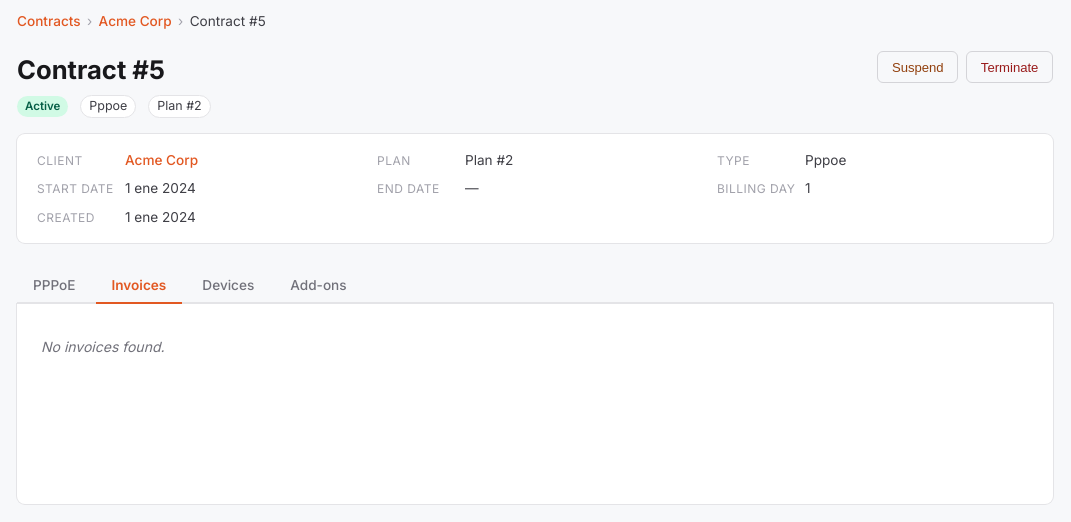
Test: ContractDetail — PPPoE credentials › shows a PPPoE tab for a PPPoE contract and reveals the credentials
Check: the heading "Contract #5" is shown, box [17, 54, 165, 85]
Click the button "PPPoE".
click(54, 286)  # box [17, 267, 92, 304]
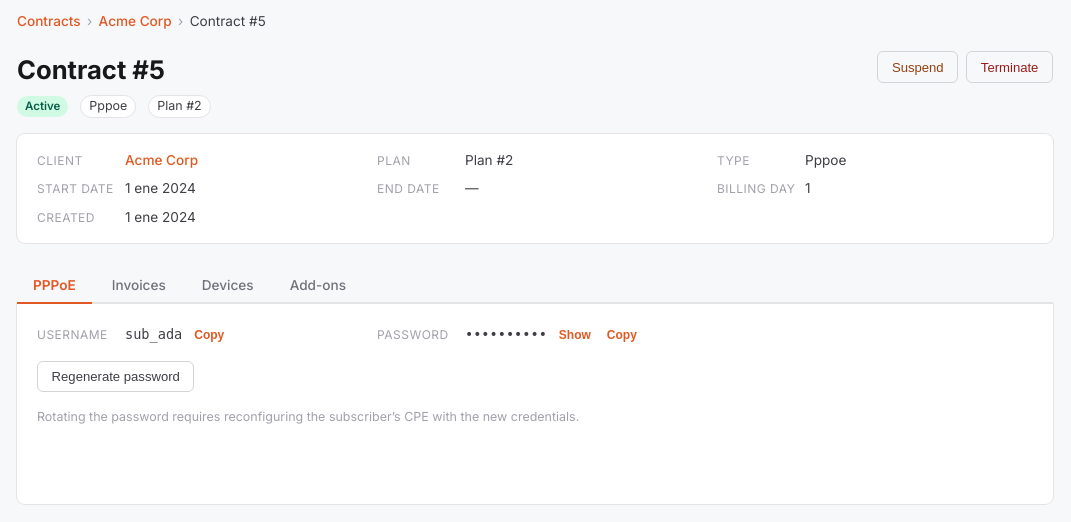
Check: the text "topsecret" is not shown
Check: the text "sub_ada" is shown, box [125, 324, 182, 345]
Click the button "Show".
click(575, 336)  # box [555, 328, 595, 342]
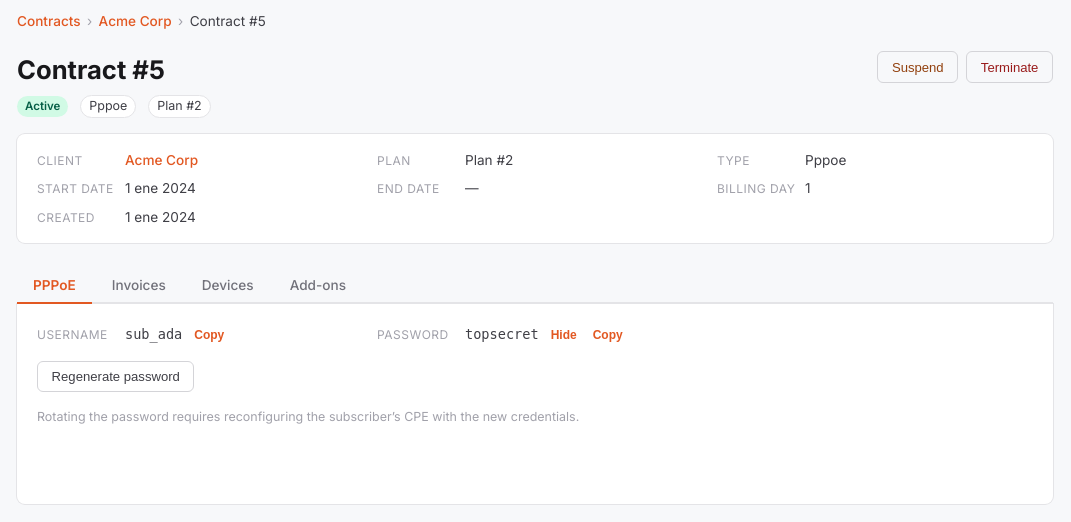
Check: the text "topsecret" is shown, box [465, 324, 539, 345]
